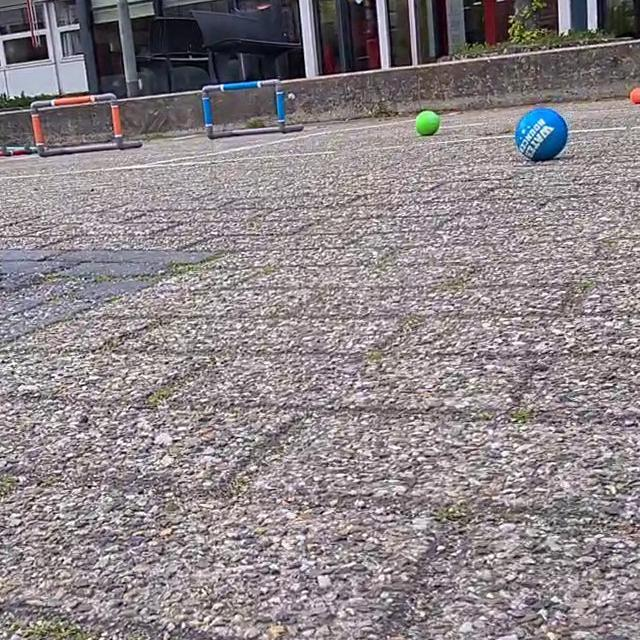ball: (412, 108, 440, 138)
